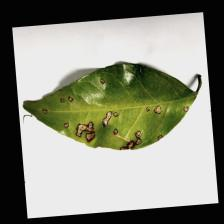canker: (35, 59, 192, 164)
